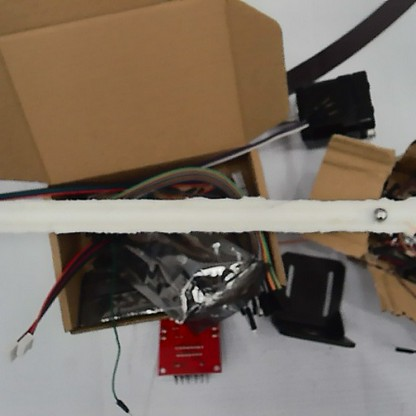ironball: (372, 204, 387, 223)
